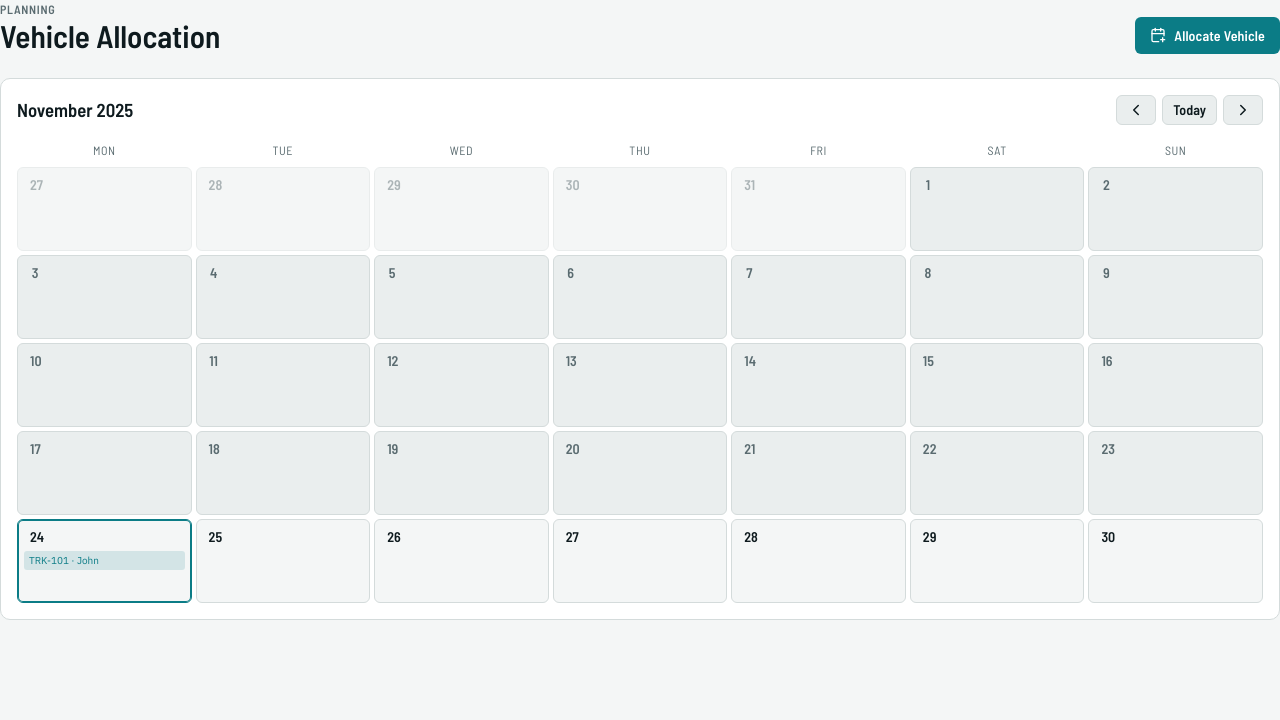
Scenario: AllocationPage › hard-blocks allocation for a past date
Click the button "Allocate Vehicle" at (1208, 35), box [1135,17,1279,54]
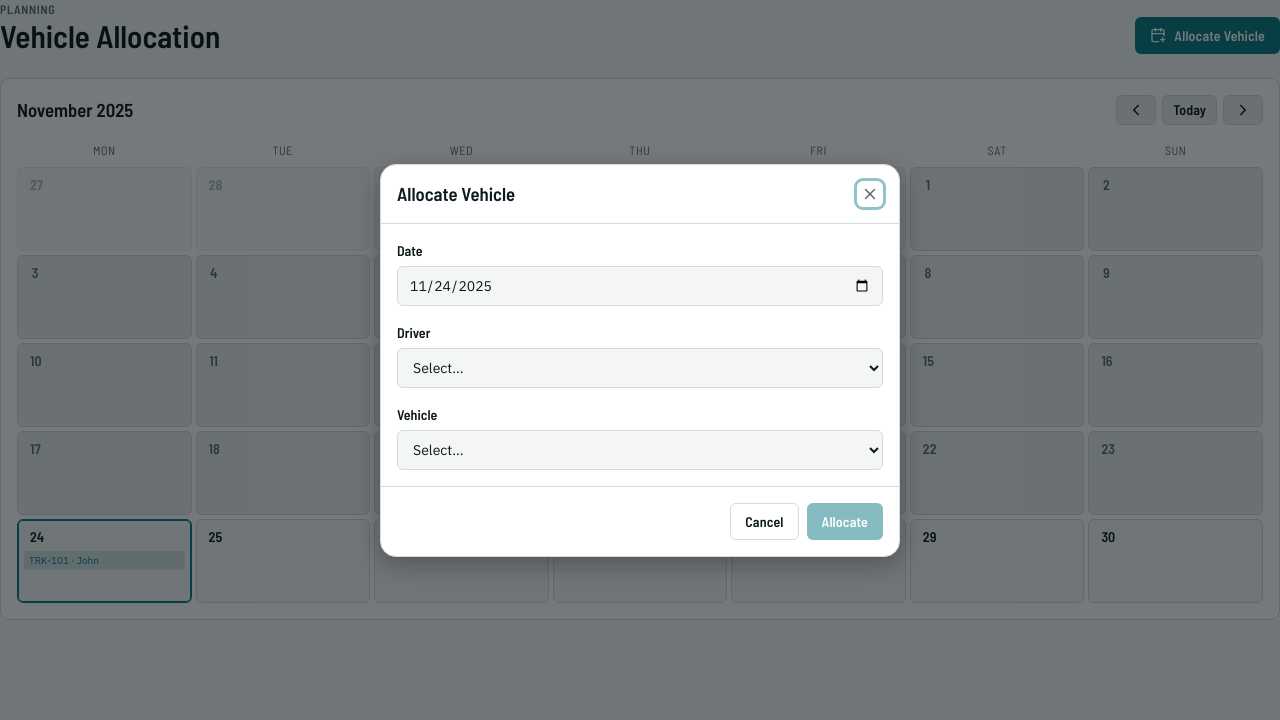
Check: the dialog "Allocate Vehicle" is shown, box [380,164,900,556]
Type "2000-01-01" into the date field labelled "Date" at (640, 286), box [397,266,883,306]
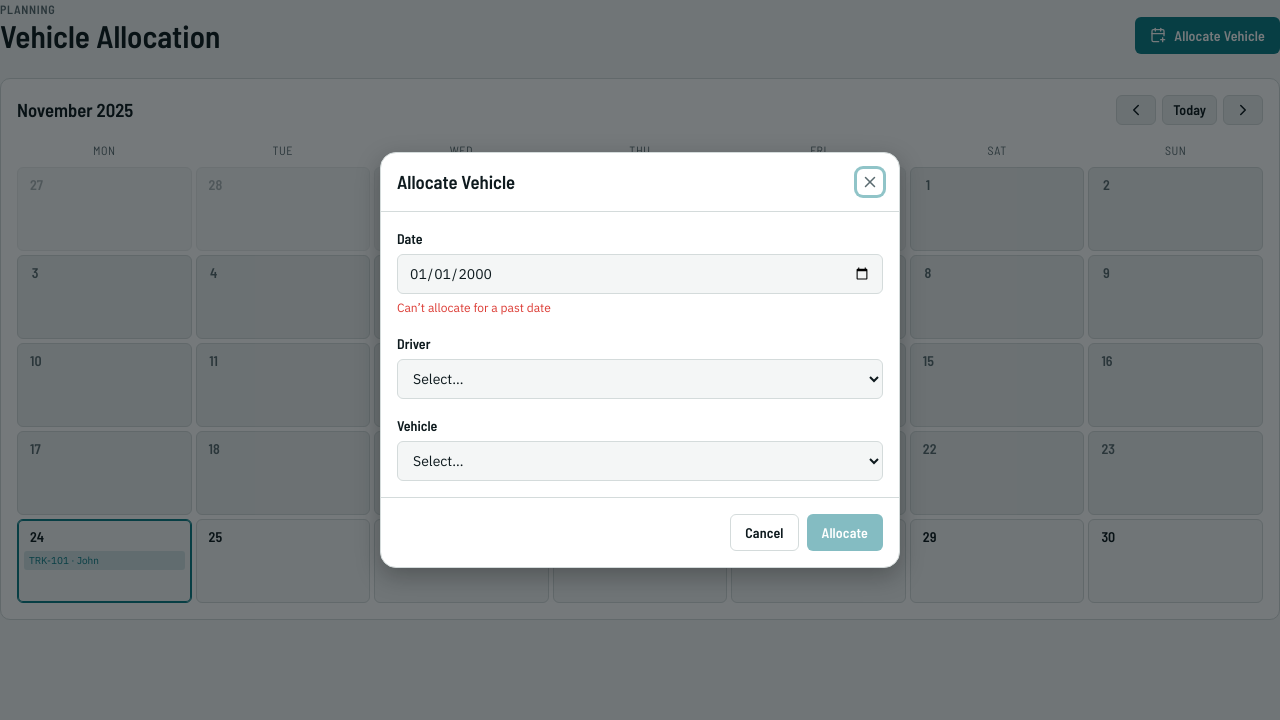
Check: the button "Allocate" is disabled, box [806,514,883,551]
Check: the text "Can’t allocate for a past date" is shown, box [397,300,551,315]
